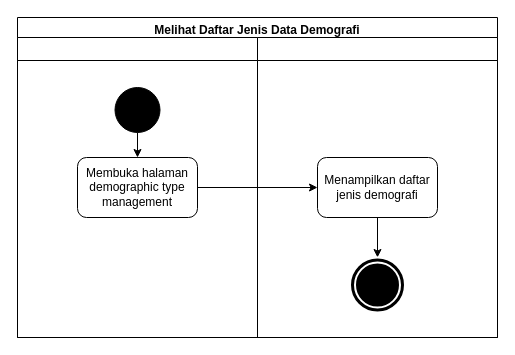
Image size: 515x355. Some labels were removed from this diagram. Each missing label, with the box of its shape:
Admin: (16, 36, 258, 338)
Sistem: (256, 36, 498, 338)
